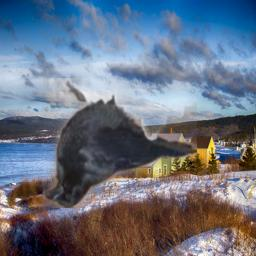Crow: (43, 78, 197, 208)
